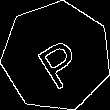P_NW: (28, 25, 85, 88)
